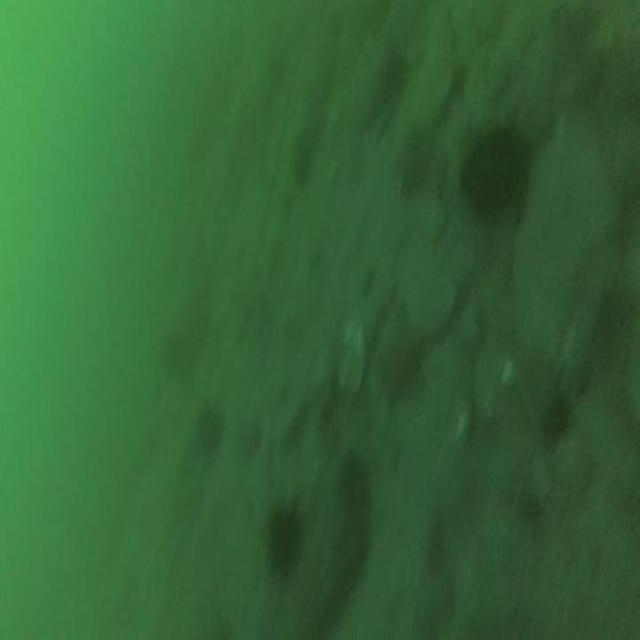echinus: (462, 128, 524, 216), (263, 504, 300, 574), (334, 452, 371, 520), (290, 126, 316, 182), (376, 57, 407, 101), (541, 395, 567, 446), (198, 406, 222, 454)
